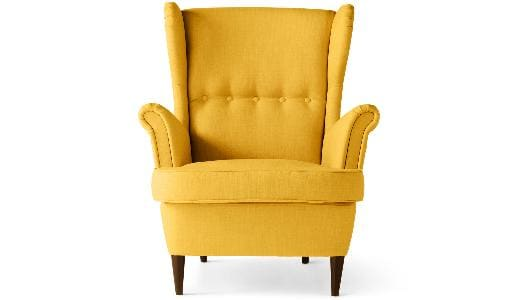chairs: (143, 5, 379, 298)
